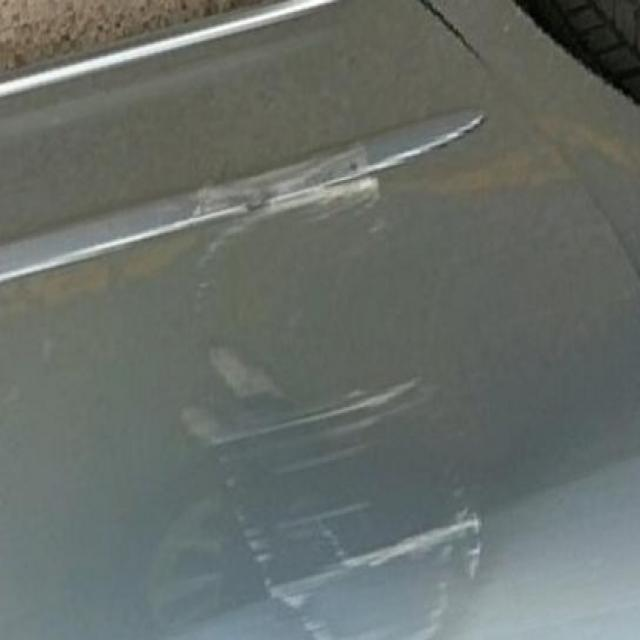scratch: (148, 115, 534, 640)
